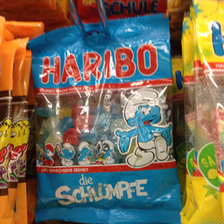candy: (19, 20, 185, 221)
